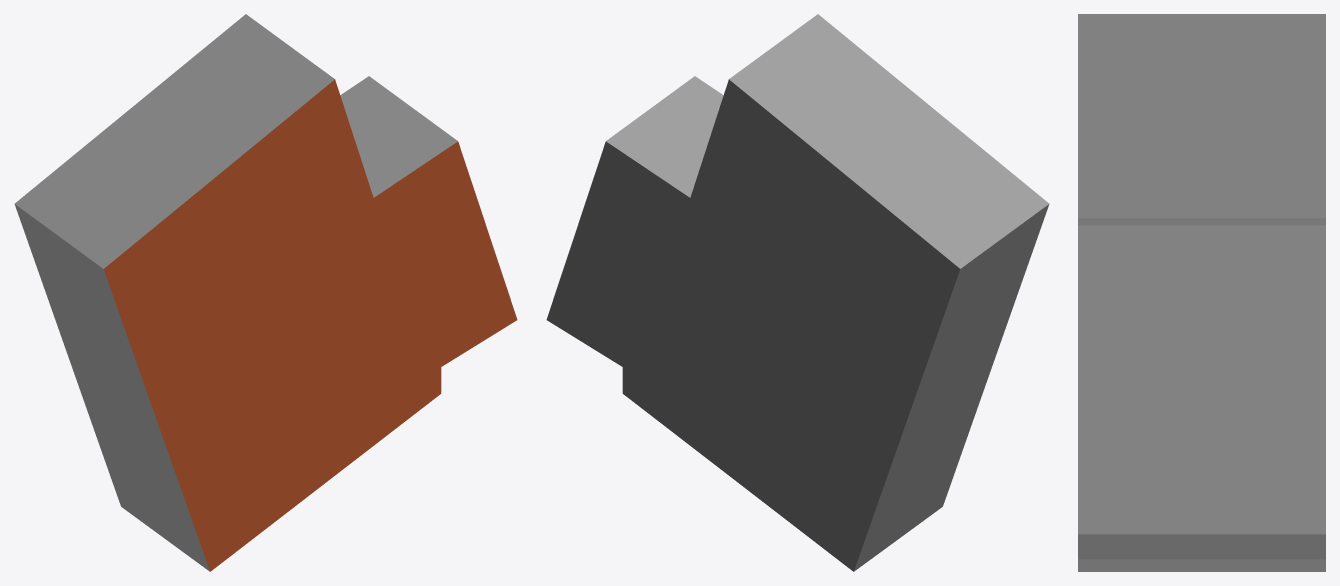
Rendered from construction_3411_assumed_A_Casa_h6m.obj.
The picture shows the model from 3 angles, left to right: view 1: azimuth 30°, elevation 25°; view 2: azimuth 150°, elevation 25°; view 3: azimuth 270°, elevation 25°; orthographic projection. The views are drawn at different scales.
Visible parts, largest first — view 1: construction_3411_assumed_A_Casa; view 2: construction_3411_assumed_A_Casa; view 3: construction_3411_assumed_A_Casa.
Boxes of the visible parts, x1,y1,x2,y2 form: construction_3411_assumed_A_Casa: [14, 14, 517, 571]; construction_3411_assumed_A_Casa: [546, 14, 1049, 571]; construction_3411_assumed_A_Casa: [1078, 14, 1325, 571].
Bounding box in the file's own units: 16.08 × 17.16 × 6.
